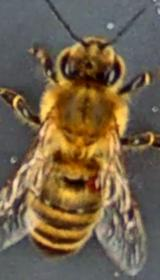varroa_mite: (85, 171, 106, 198)
